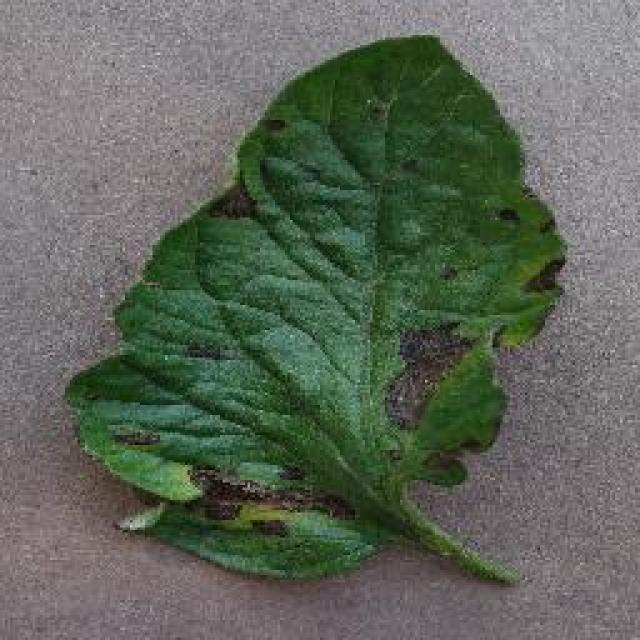Tomato Early blight leaf: (70, 51, 562, 609)
